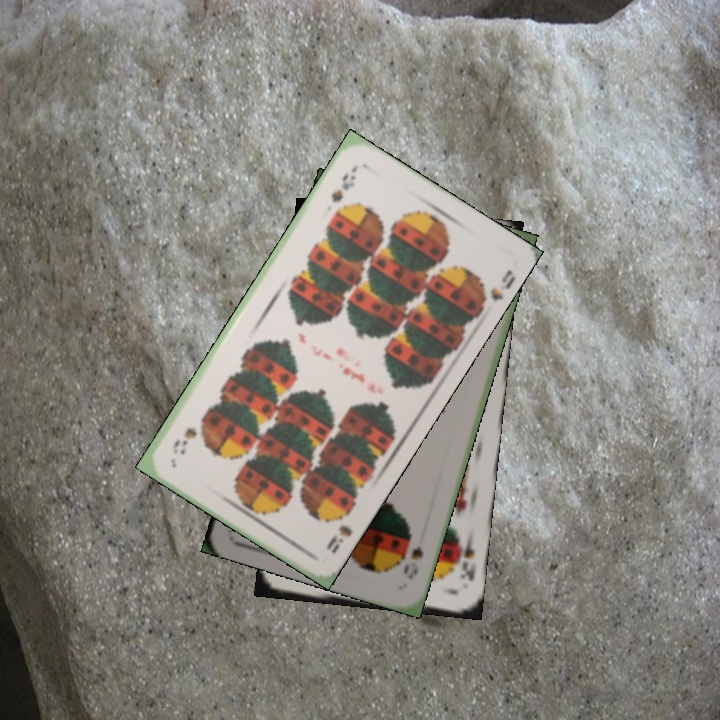S9: (322, 504, 356, 556), (326, 169, 359, 206)
SK: (451, 532, 479, 584)
SO: (399, 542, 426, 583)
